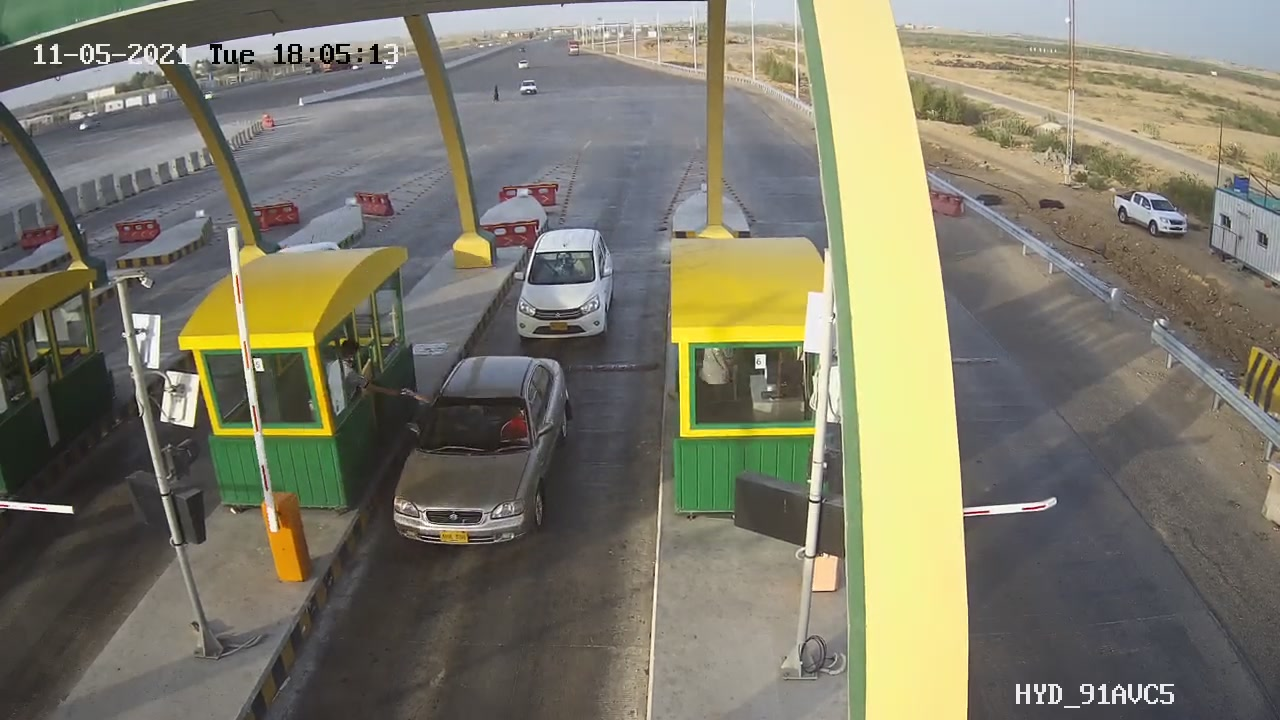F1: (382, 335, 595, 565), (498, 217, 627, 346)
